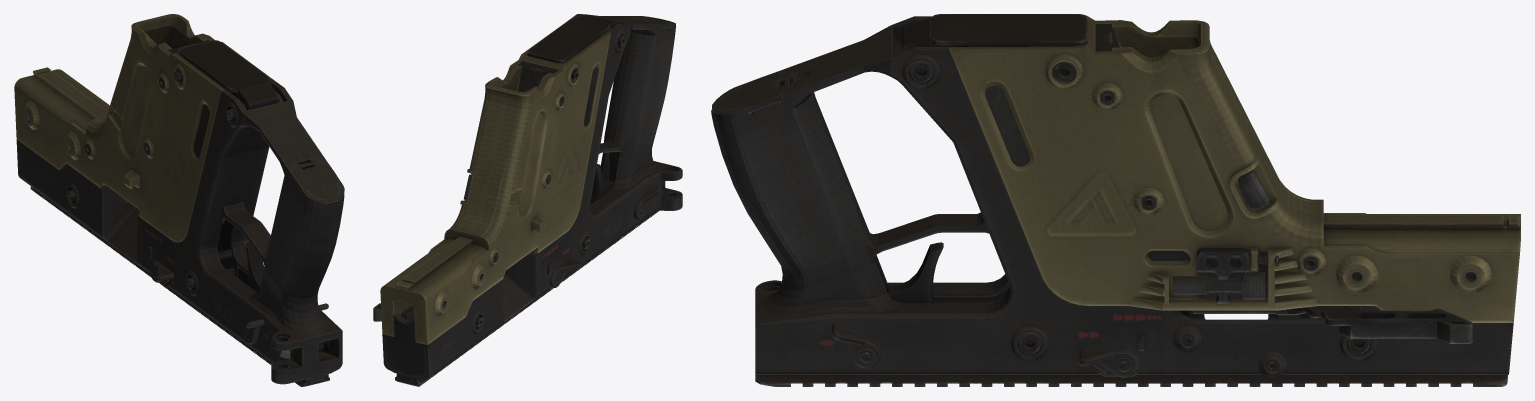
The picture shows the model from 3 angles, left to right: view 1: azimuth 30°, elevation 25°; view 2: azimuth 150°, elevation 25°; view 3: azimuth 270°, elevation 25°; orthographic projection. The views are drawn at different scales.
Visible parts, largest first — view 1: TW_5fc3f2d5900b1d5091531e57_PZ_Import; view 2: TW_5fc3f2d5900b1d5091531e57_PZ_Import; view 3: TW_5fc3f2d5900b1d5091531e57_PZ_Import.
Part boxes in pixels (x1,y1,x2,y2): TW_5fc3f2d5900b1d5091531e57_PZ_Import: (14,14,344,386); TW_5fc3f2d5900b1d5091531e57_PZ_Import: (373,14,682,386); TW_5fc3f2d5900b1d5091531e57_PZ_Import: (711,14,1520,386).
Size of the model in its own units: 0.0381 by 0.2096 by 0.1004.
Materials: 1 (1 with a texture image).
